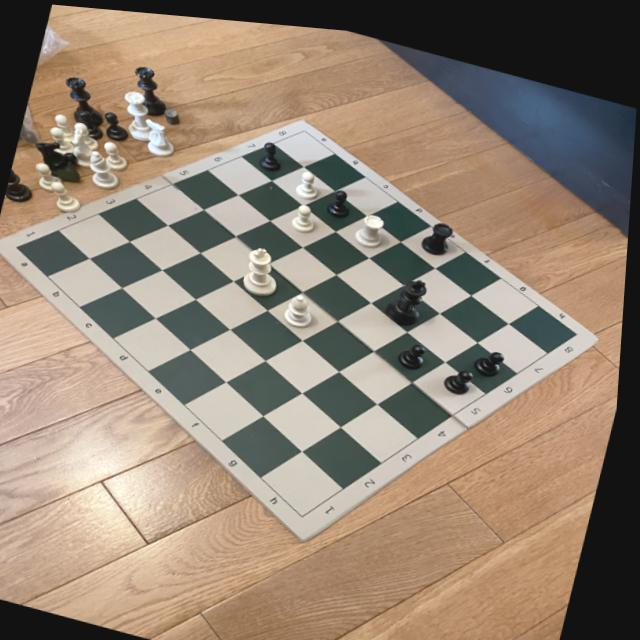Chessboard-Corners: (570, 315, 587, 328), (301, 502, 316, 515), (12, 241, 29, 252), (299, 121, 311, 129)
